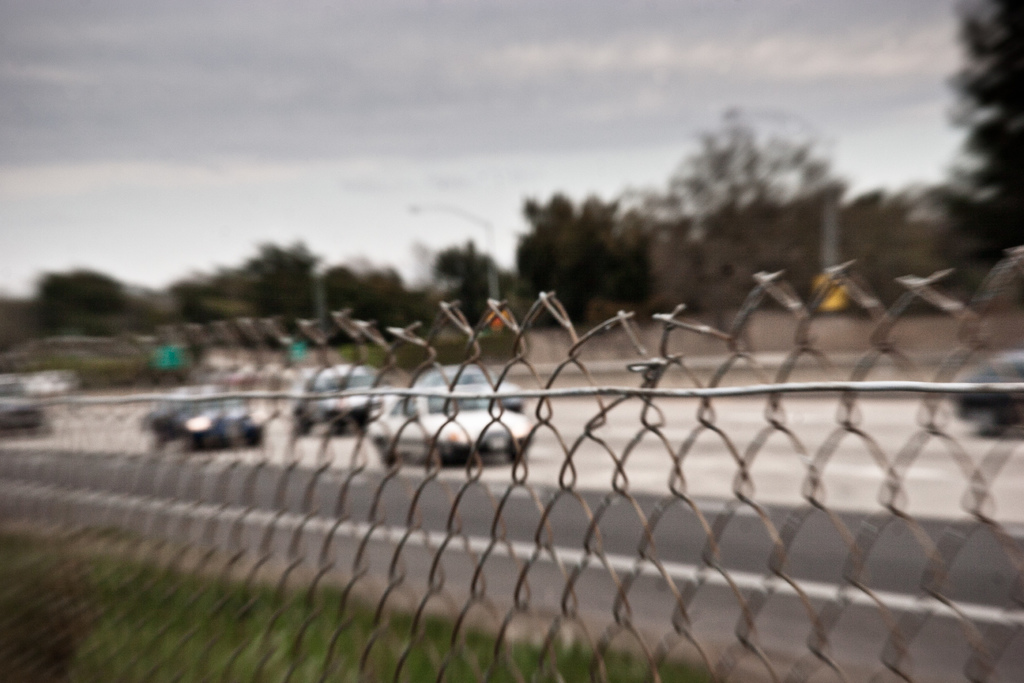Car: (364, 383, 533, 472), (138, 383, 261, 458), (949, 350, 1023, 440), (410, 363, 525, 416)
